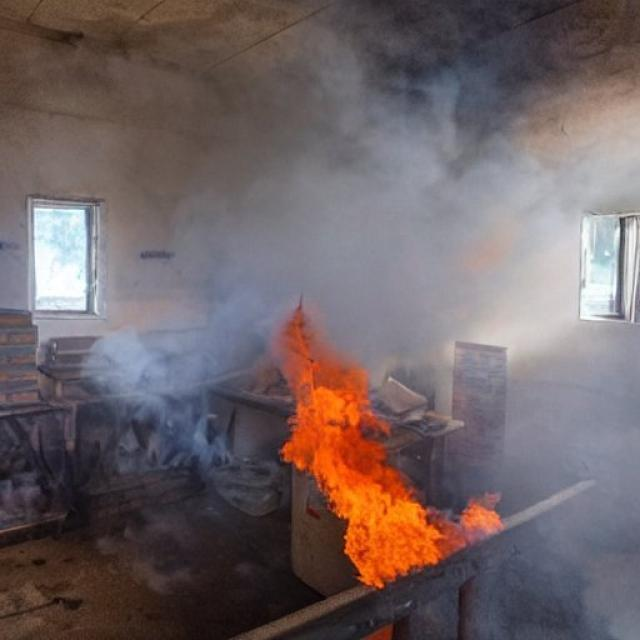Fire: (276, 306, 449, 578), (460, 492, 505, 534)
Smoke: (0, 0, 640, 400), (448, 259, 640, 640)
